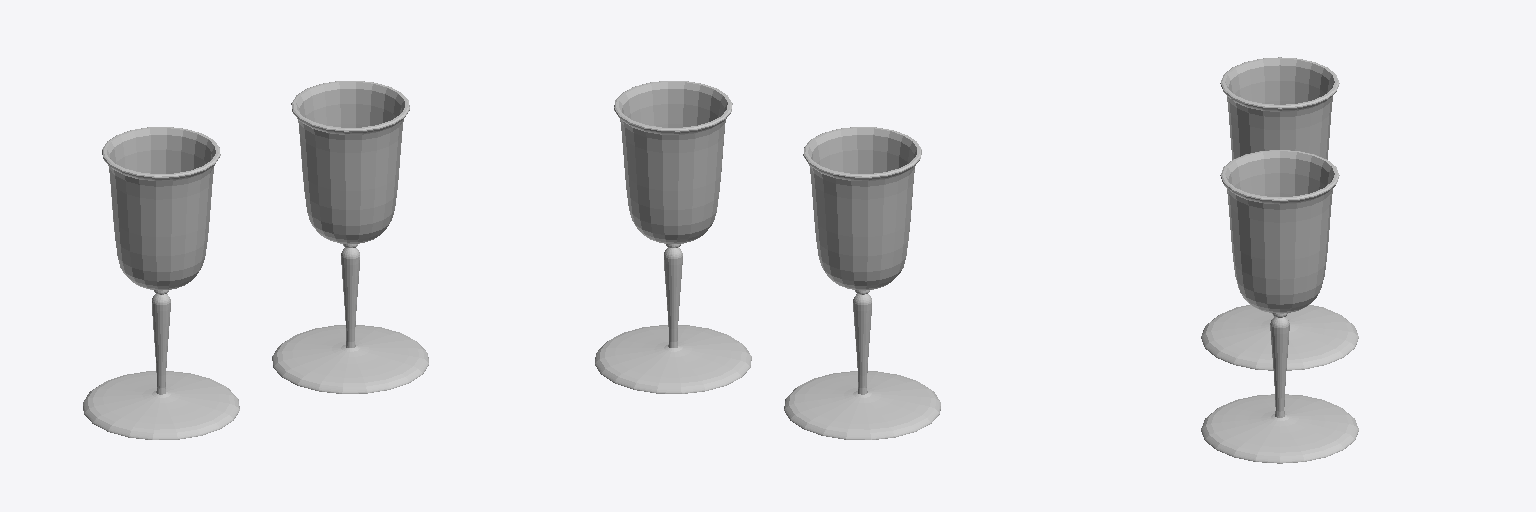
File: foreigncup.obj
3 renders of one model, left to right at view 1: azimuth 30°, elevation 25°; view 2: azimuth 150°, elevation 25°; view 3: azimuth 270°, elevation 25°, orthographic.
Visible parts, largest first — view 1: Line01, Line02; view 2: Line01, Line02; view 3: Line02, Line01.
Boxes of the visible parts, <box> form: Line01: <box>83,127,239,439</box>; Line02: <box>272,81,428,393</box>; Line01: <box>784,127,940,439</box>; Line02: <box>595,81,751,393</box>; Line02: <box>1201,150,1358,463</box>; Line01: <box>1201,57,1358,370</box>.
Size of the model in its own units: 553 by 415 by 232.